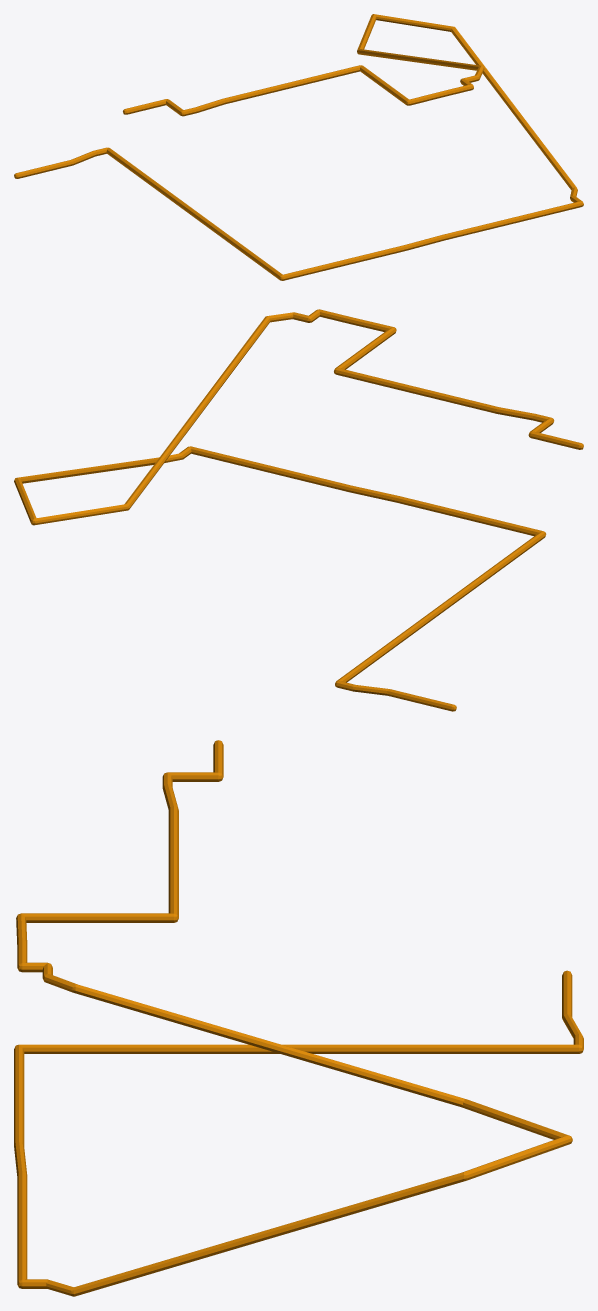
The picture shows the model from 3 angles, top to bottom: view 1: azimuth 30°, elevation 25°; view 2: azimuth 150°, elevation 25°; view 3: azimuth 270°, elevation 25°; orthographic projection. The views are drawn at different scales.
Size of the model in its own units: 1492 by 520 by 1120.
